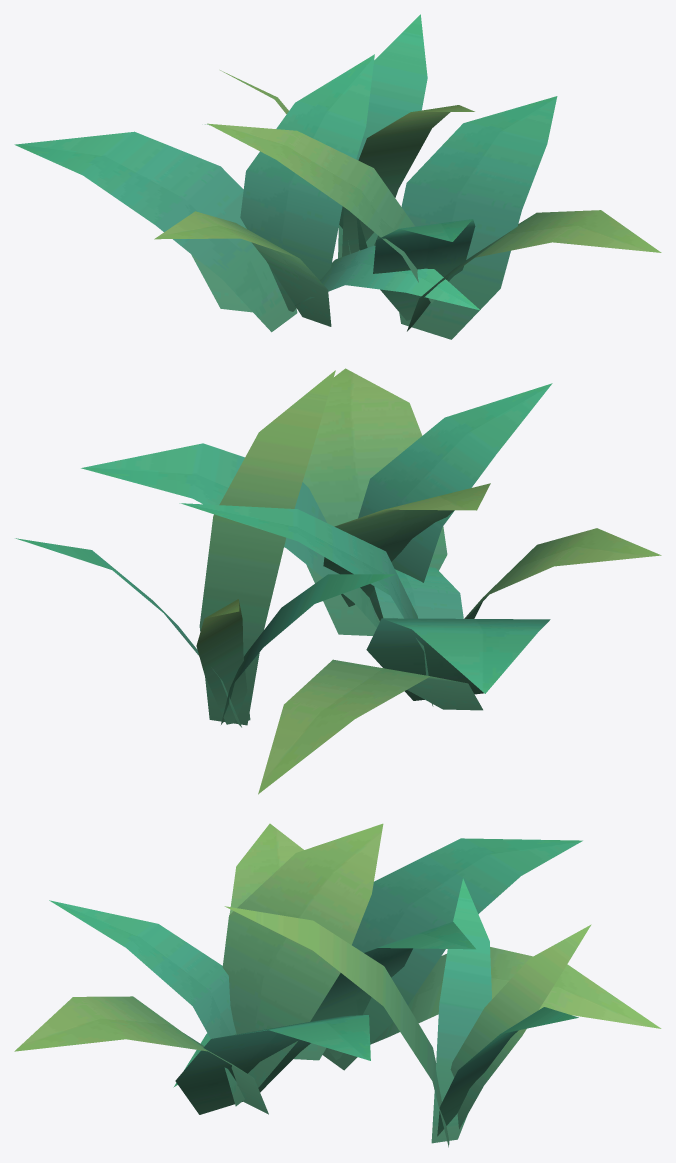
The model's file is FloorDeco2B-001_02_19_3810.fbx.
3 renders of one model, top to bottom at view 1: azimuth 30°, elevation 25°; view 2: azimuth 150°, elevation 25°; view 3: azimuth 270°, elevation 25°, orthographic. The views are drawn at different scales.
Visible parts, largest first — view 1: Plant2 (1), Plant1 (1), Plant3 (1); view 2: Plant1 (1), Plant2 (1), Plant3 (1); view 3: Plant1 (1), Plant2 (1), Plant3 (1).
Part boxes in pixels (bbox=[...]): Plant2 (1): bbox=[14, 54, 479, 332]; Plant1 (1): bbox=[207, 96, 661, 339]; Plant3 (1): bbox=[205, 14, 474, 258]; Plant1 (1): bbox=[81, 368, 552, 635]; Plant2 (1): bbox=[179, 503, 661, 794]; Plant3 (1): bbox=[15, 370, 395, 727]; Plant1 (1): bbox=[14, 823, 383, 1114]; Plant2 (1): bbox=[173, 823, 661, 1087]; Plant3 (1): bbox=[224, 878, 591, 1147].
Size of the model in its own units: 2.48 by 1.18 by 2.87.
